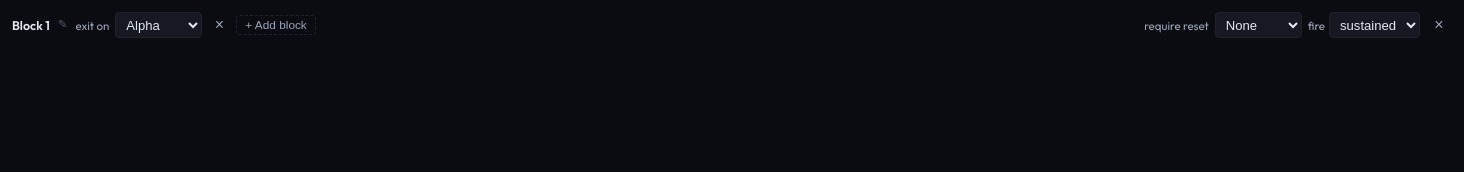
Test case: BlockHeader — exit multi-target picker › filling an opened empty row graduates it without spawning a stale extra row (R3)
Click the button with test id "add-target-0": x=276, y=25 [236,15,316,35]
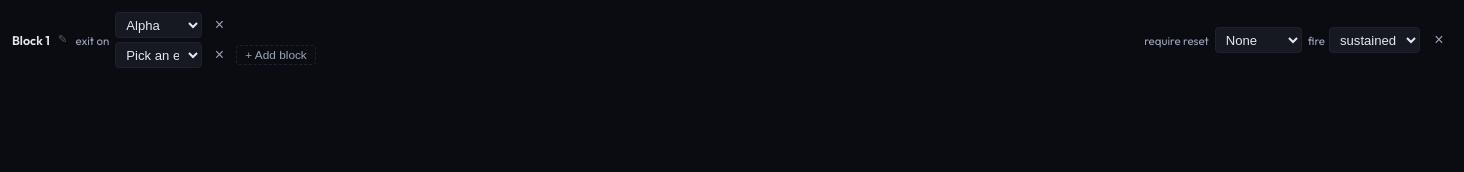
Now the dropdown with test id "target-entry-select-0-1" shows "Pick an entry…"
# Fill the empty row with Beta.
Select "Beta" in the dropdown with test id "target-entry-select-0-1": x=159, y=55 [115,42,202,68]
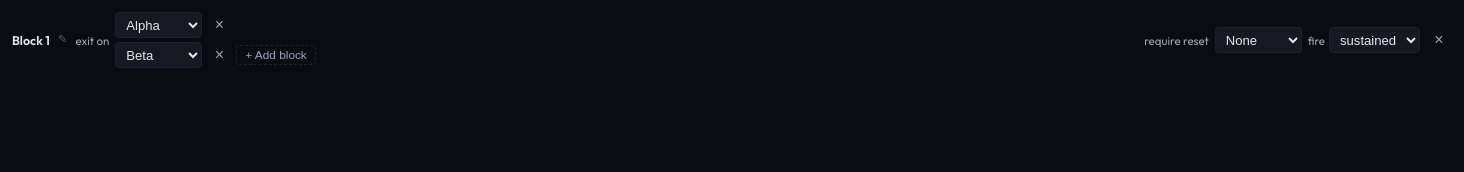
Expected: the dropdown with test id "target-entry-select-0-0" shows "Alpha", [115,12,202,38]
Now the dropdown with test id "target-entry-select-0-1" shows "Beta", box [115,42,202,68]
